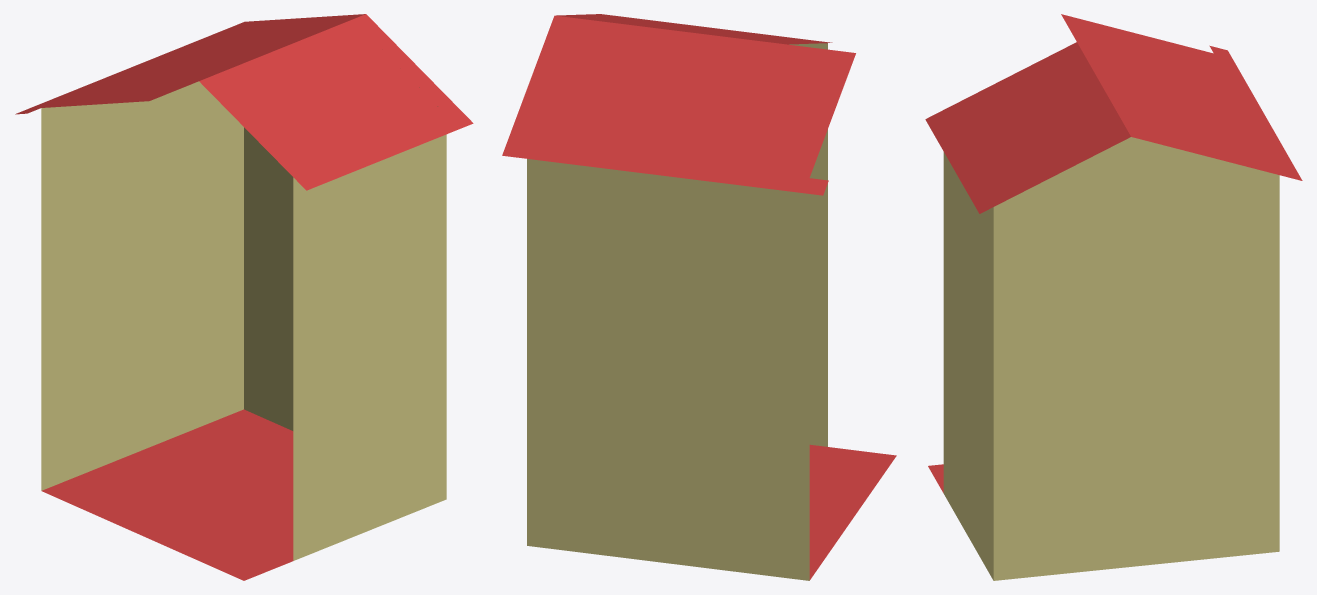
The picture shows the model from 3 angles, left to right: view 1: azimuth 30°, elevation 25°; view 2: azimuth 150°, elevation 25°; view 3: azimuth 270°, elevation 25°; orthographic projection. The views are drawn at different scales.
Size of the model in its own units: 10.15 by 9.88 by 12.66.
